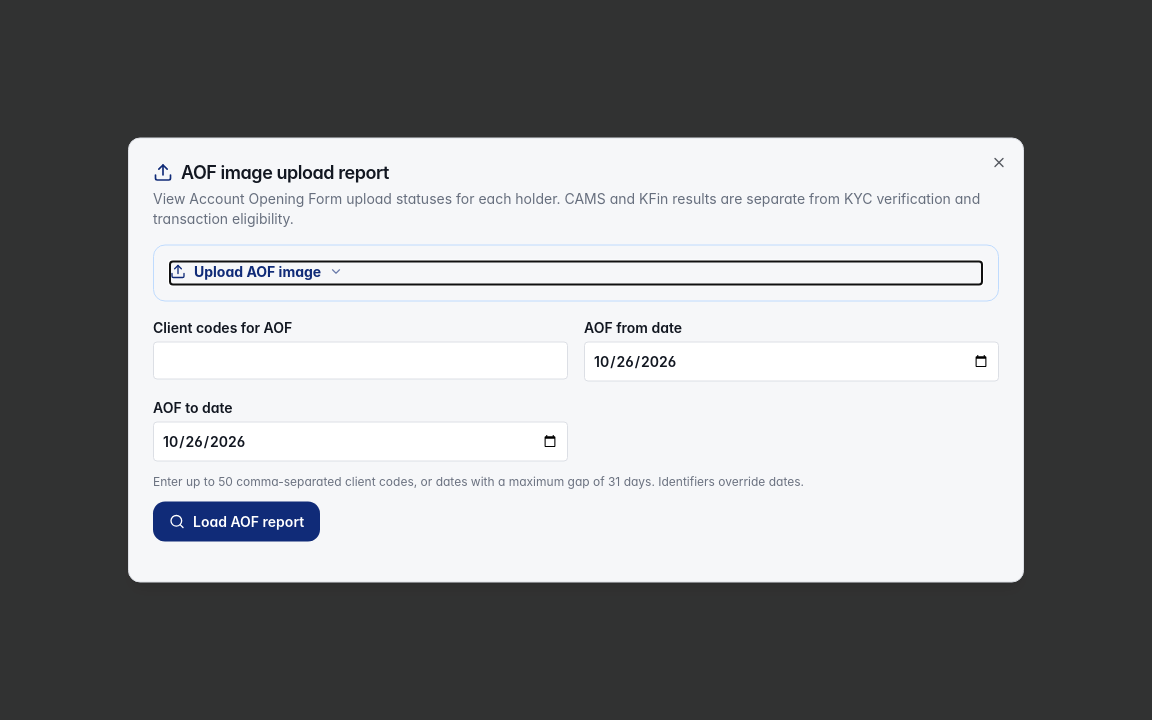
Test: uses client-only filters and displays separate holder/RTA results with masked PAN
In the field labelled "Client codes for AOF": (360, 360) 153,342 -> 568,380, type "TEST001"
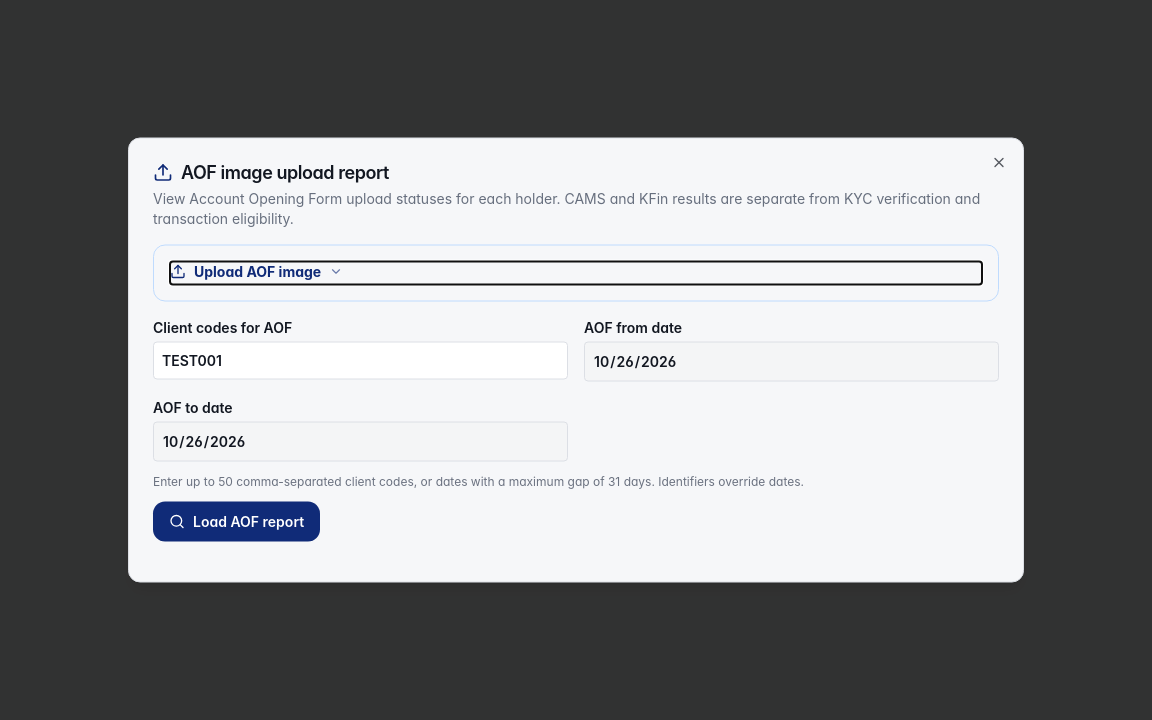
Click the button "Load AOF report": (237, 522) 153,502 -> 320,542
(page scrolled)
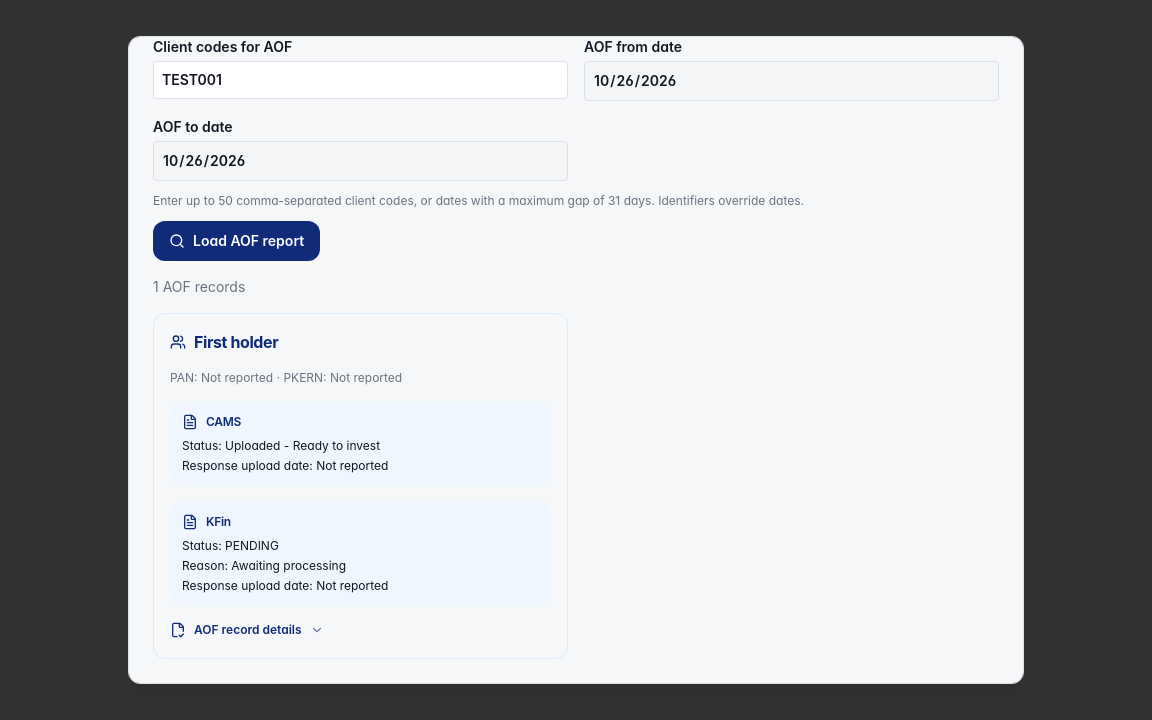
Expected: the heading "First holder" is shown, 170,332 -> 278,352
Expected: the text "Status: Uploaded - Ready to invest" is shown, 182,438 -> 380,453
Expected: the text "Reason: Awaiting processing" is shown, 182,558 -> 346,573
